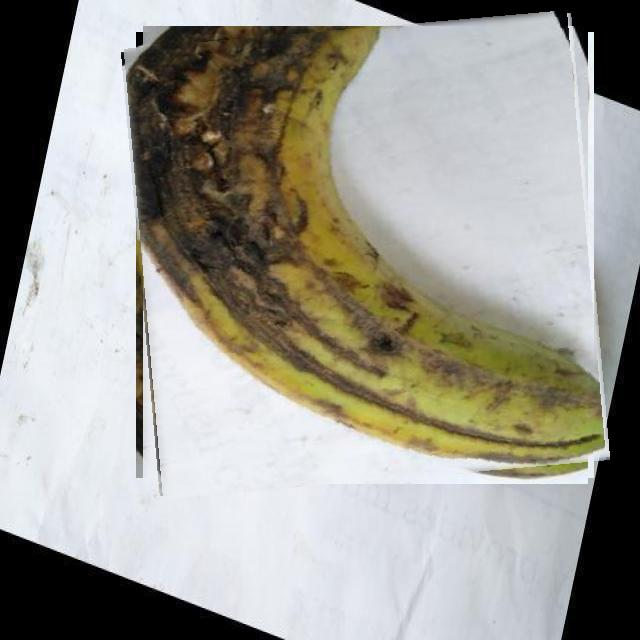Podre: (130, 20, 601, 490)
